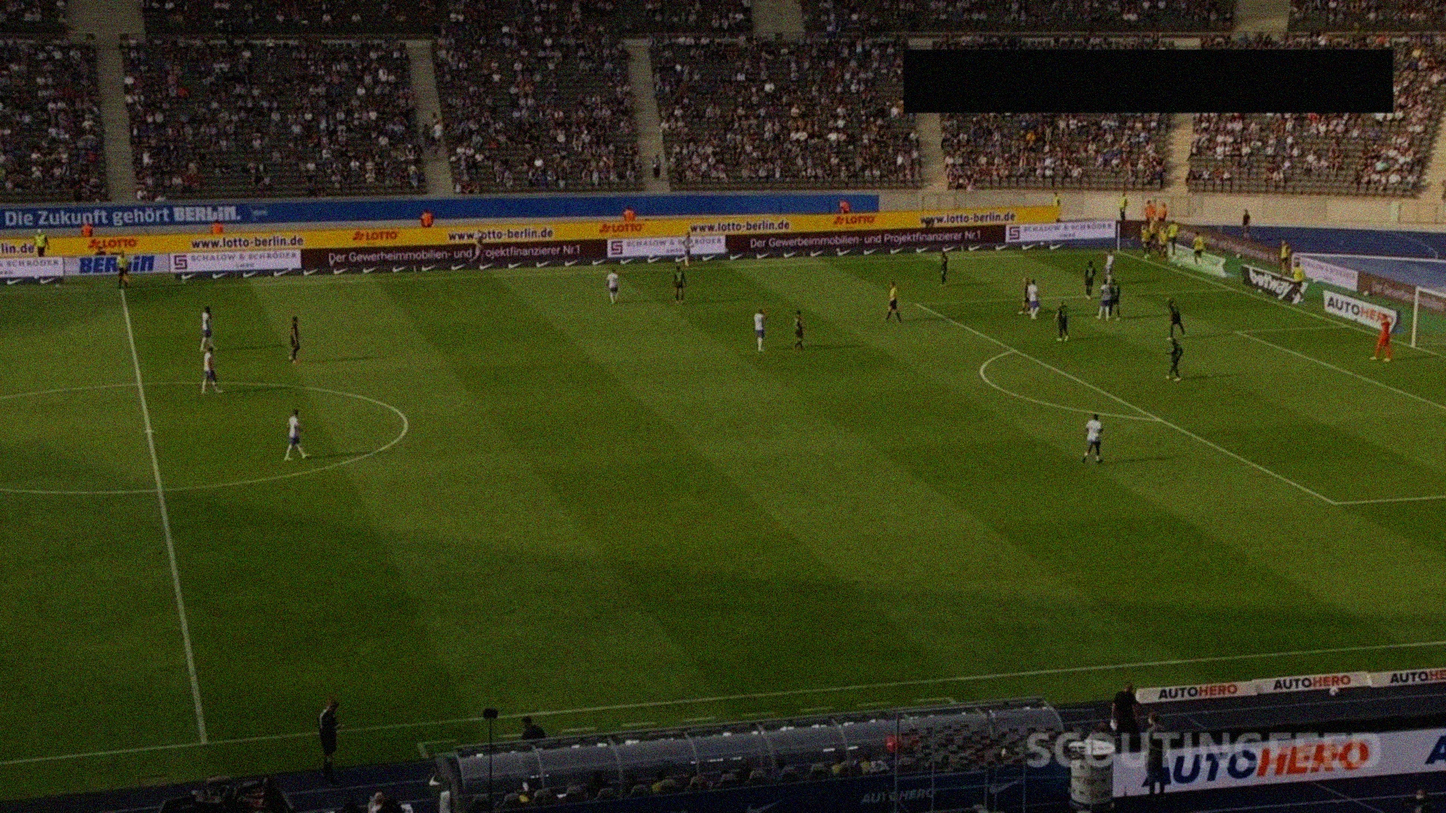goalkeeper: (1368, 315, 1393, 366)
player: (280, 407, 311, 465), (1081, 411, 1105, 465), (200, 346, 224, 397), (1164, 297, 1188, 341), (1163, 339, 1185, 385), (792, 309, 813, 353), (198, 306, 217, 353), (751, 307, 770, 354), (1054, 300, 1070, 343), (288, 315, 302, 364), (672, 265, 688, 306), (1096, 280, 1112, 321), (1107, 278, 1121, 321), (606, 268, 621, 306), (1083, 259, 1096, 301), (1018, 276, 1031, 317), (679, 231, 694, 266), (938, 251, 951, 288), (1030, 279, 1042, 319), (1102, 248, 1115, 284)
referee: (882, 282, 902, 326), (115, 250, 131, 288)
